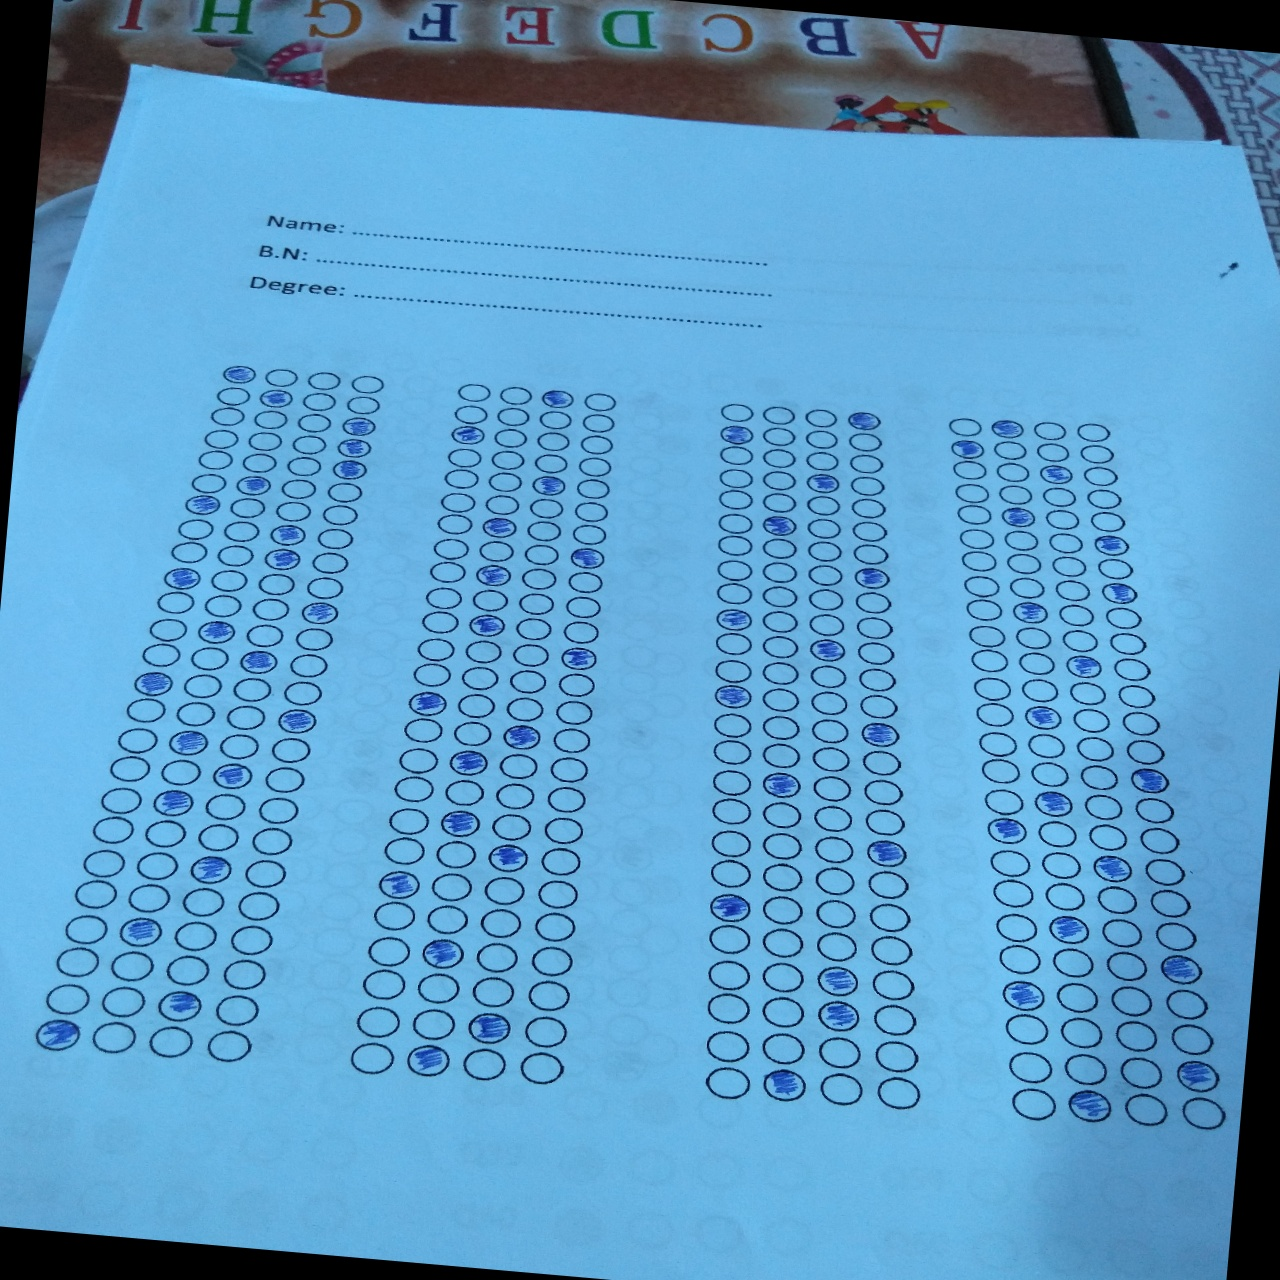not-c: (347, 1039, 396, 1078), (459, 1046, 509, 1085), (522, 1012, 571, 1051), (874, 1074, 924, 1114), (1179, 1094, 1228, 1133), (1164, 985, 1213, 1024), (816, 1033, 865, 1073), (91, 1019, 139, 1058), (365, 931, 413, 971), (758, 958, 806, 998), (758, 924, 806, 964), (869, 931, 917, 971), (147, 1023, 196, 1062), (518, 1050, 567, 1089), (524, 976, 573, 1015), (703, 1064, 753, 1103), (817, 1070, 866, 1109), (873, 1039, 922, 1077), (1122, 1091, 1171, 1130), (1062, 1051, 1111, 1090), (1006, 1049, 1055, 1088), (1002, 1009, 1051, 1048), (1057, 1013, 1107, 1051), (1169, 1021, 1218, 1060), (1109, 982, 1158, 1021), (1054, 979, 1103, 1017), (995, 940, 1044, 979), (361, 965, 408, 1005), (98, 982, 147, 1021), (527, 944, 576, 982), (1009, 1085, 1057, 1124), (1119, 1053, 1167, 1091), (1114, 1017, 1162, 1056), (869, 966, 917, 1005), (758, 1029, 806, 1068), (704, 1027, 753, 1065), (758, 993, 806, 1032), (704, 956, 753, 995), (353, 1005, 402, 1042), (871, 1002, 920, 1040), (703, 989, 753, 1027), (706, 921, 755, 959), (866, 899, 915, 937), (43, 981, 91, 1019), (813, 927, 862, 965), (123, 879, 171, 915), (410, 1006, 458, 1042), (812, 896, 860, 932), (706, 856, 754, 892), (758, 828, 806, 864), (707, 826, 756, 862), (236, 888, 282, 925), (55, 944, 102, 980), (205, 1028, 252, 1064), (241, 856, 290, 891), (80, 845, 128, 880), (72, 877, 120, 912), (178, 885, 226, 920), (172, 918, 220, 953), (163, 952, 211, 987), (993, 911, 1041, 946), (1049, 946, 1097, 981), (1135, 823, 1183, 858), (215, 992, 260, 1028), (493, 749, 540, 784), (134, 847, 181, 883), (63, 911, 110, 946), (222, 956, 268, 992), (474, 940, 520, 975), (1098, 915, 1145, 951), (1145, 886, 1192, 921), (758, 893, 806, 927), (811, 864, 859, 898), (865, 869, 913, 903), (537, 844, 583, 879), (471, 974, 517, 1009), (415, 971, 461, 1006), (1155, 920, 1200, 955), (1095, 881, 1141, 917), (433, 837, 479, 871), (256, 794, 302, 828), (229, 922, 275, 956), (107, 949, 154, 983), (760, 860, 806, 894), (989, 878, 1036, 912), (1043, 879, 1090, 913), (1103, 949, 1150, 983), (1037, 847, 1084, 881), (1142, 855, 1189, 888), (544, 783, 590, 817), (535, 878, 580, 912), (482, 873, 527, 907), (425, 903, 471, 937), (531, 908, 577, 942), (195, 821, 240, 855), (988, 845, 1034, 879), (248, 825, 295, 858), (1080, 790, 1126, 823), (492, 779, 537, 813), (542, 813, 586, 847), (372, 898, 416, 932), (478, 905, 523, 939), (488, 810, 533, 843), (547, 754, 593, 787), (549, 724, 594, 757), (91, 812, 137, 845), (863, 805, 908, 838), (709, 795, 755, 828), (261, 764, 308, 796), (1084, 821, 1131, 852), (443, 776, 488, 809), (429, 870, 474, 903), (813, 803, 858, 836), (760, 799, 804, 832), (98, 785, 144, 817), (1130, 794, 1176, 825), (392, 774, 436, 805), (224, 702, 268, 734), (182, 670, 226, 702), (108, 753, 152, 784), (204, 790, 248, 822), (1036, 817, 1081, 849), (709, 768, 754, 799), (710, 712, 755, 743), (454, 690, 499, 721), (216, 730, 261, 761), (142, 818, 188, 849), (810, 835, 856, 865), (709, 737, 755, 768), (712, 655, 757, 686), (451, 717, 495, 749), (383, 835, 427, 866), (268, 734, 312, 765), (123, 694, 166, 726), (401, 715, 445, 745), (173, 699, 218, 729), (810, 774, 855, 804), (981, 787, 1026, 817), (114, 726, 159, 755), (281, 678, 324, 709), (559, 618, 602, 648), (396, 744, 440, 775), (857, 692, 900, 722), (1073, 734, 1116, 764), (971, 673, 1014, 703), (504, 695, 549, 724), (387, 806, 431, 836), (966, 622, 1010, 652), (760, 741, 802, 771), (856, 665, 898, 695), (981, 756, 1023, 787), (964, 595, 1006, 626), (413, 634, 456, 663), (285, 651, 328, 680), (158, 757, 202, 787), (712, 628, 755, 658), (760, 659, 803, 688), (810, 744, 853, 774), (810, 716, 853, 745), (805, 662, 849, 692), (862, 778, 905, 808), (973, 701, 1016, 730), (154, 588, 198, 617), (292, 626, 336, 654), (1110, 654, 1151, 685), (411, 659, 454, 688), (231, 675, 273, 704), (757, 633, 799, 662), (758, 686, 801, 715), (760, 713, 802, 742), (808, 688, 850, 717), (860, 748, 903, 777), (855, 638, 897, 667), (1028, 760, 1070, 789), (1078, 763, 1121, 792), (969, 645, 1012, 674), (1070, 706, 1112, 735), (1103, 604, 1145, 633), (1060, 626, 1102, 655), (561, 593, 605, 621), (200, 592, 244, 620), (512, 615, 556, 644), (509, 640, 552, 668), (462, 636, 505, 665), (461, 665, 504, 693), (505, 668, 549, 696), (552, 697, 595, 726), (244, 622, 287, 651), (139, 641, 183, 669), (188, 644, 231, 672), (1123, 737, 1166, 765), (1024, 731, 1065, 761), (1116, 682, 1157, 712), (248, 595, 291, 624), (554, 670, 597, 699), (147, 615, 189, 644), (757, 608, 799, 636), (976, 730, 1019, 758), (1020, 676, 1062, 704), (518, 565, 561, 592), (425, 558, 469, 585), (515, 591, 558, 618), (207, 567, 251, 594), (302, 576, 346, 602), (1121, 709, 1160, 738), (1107, 629, 1148, 658), (1056, 601, 1097, 629), (256, 571, 298, 598), (418, 610, 461, 636), (853, 615, 896, 642), (714, 556, 754, 584), (805, 561, 845, 590), (422, 584, 465, 610), (467, 587, 510, 613), (168, 540, 211, 566), (175, 516, 216, 543), (314, 526, 355, 553), (441, 465, 482, 492), (568, 520, 610, 547), (806, 611, 847, 638), (1051, 576, 1092, 602), (1094, 556, 1135, 583), (219, 518, 261, 544), (442, 445, 484, 471), (452, 377, 495, 403), (215, 543, 257, 568), (1068, 680, 1110, 706), (853, 588, 892, 617), (1007, 574, 1047, 601), (962, 572, 1002, 599), (806, 587, 846, 614), (760, 583, 799, 610), (715, 581, 755, 608), (496, 383, 537, 409), (490, 425, 531, 451), (475, 538, 516, 564), (520, 542, 561, 567), (565, 570, 606, 595), (309, 550, 350, 576), (1013, 625, 1054, 651), (1017, 651, 1058, 676), (992, 461, 1033, 486), (1039, 484, 1080, 510), (1029, 418, 1070, 444), (844, 451, 885, 477), (799, 406, 840, 431), (760, 535, 798, 561), (431, 537, 474, 561), (1085, 486, 1125, 512), (434, 513, 475, 538), (437, 490, 478, 515), (449, 402, 490, 427), (492, 403, 533, 428), (486, 447, 527, 471), (535, 407, 576, 431), (576, 433, 617, 457), (849, 542, 890, 566), (804, 517, 845, 542), (847, 519, 888, 544), (958, 549, 999, 573), (1050, 554, 1091, 579), (1046, 530, 1087, 554), (1043, 508, 1084, 532), (956, 526, 998, 551), (949, 457, 990, 482), (995, 482, 1036, 506), (1087, 510, 1128, 535), (1034, 441, 1075, 465), (1073, 421, 1114, 445), (844, 430, 885, 455), (846, 474, 887, 498), (847, 496, 888, 520), (801, 449, 842, 474), (802, 428, 843, 452), (717, 401, 758, 425), (251, 407, 290, 433), (290, 433, 329, 457), (200, 425, 240, 450), (320, 503, 360, 527), (229, 496, 268, 520), (579, 411, 619, 436), (574, 454, 614, 478), (714, 535, 754, 559), (716, 510, 756, 535), (1001, 527, 1041, 552), (955, 503, 995, 527), (760, 490, 799, 515), (715, 486, 755, 511), (758, 469, 798, 493), (758, 445, 798, 470), (717, 442, 757, 467), (485, 470, 526, 493), (524, 519, 565, 543), (526, 497, 567, 520), (530, 451, 571, 475), (532, 430, 573, 454), (570, 501, 611, 524), (1003, 552, 1044, 576), (952, 481, 993, 504), (1080, 465, 1121, 489), (1077, 443, 1118, 467), (990, 438, 1032, 462), (945, 416, 986, 440), (760, 425, 801, 449), (758, 403, 799, 427), (285, 454, 324, 478), (325, 481, 363, 505), (207, 406, 247, 429), (195, 449, 234, 472), (189, 471, 229, 495), (482, 493, 522, 517), (574, 477, 614, 501), (803, 493, 843, 517), (714, 465, 754, 489), (295, 410, 334, 434), (278, 477, 316, 501), (240, 451, 279, 475), (246, 429, 285, 452), (580, 390, 619, 414), (760, 559, 796, 584), (348, 373, 386, 396), (215, 384, 252, 408), (274, 499, 312, 523), (808, 538, 845, 561), (345, 395, 382, 417), (300, 392, 338, 414), (263, 366, 299, 388), (305, 370, 342, 392)
taken-c: (30, 1015, 83, 1055), (463, 1008, 515, 1048), (1156, 951, 1207, 990), (373, 866, 425, 905), (402, 1040, 452, 1080), (154, 986, 204, 1024), (417, 933, 467, 972), (998, 978, 1048, 1015), (1042, 911, 1092, 948), (760, 1065, 808, 1104), (1065, 1087, 1114, 1124), (403, 686, 452, 722), (1171, 1058, 1220, 1095), (438, 806, 486, 843), (813, 962, 862, 999), (115, 914, 164, 949), (1088, 851, 1137, 886), (815, 998, 862, 1034), (483, 840, 531, 876), (445, 745, 493, 781), (498, 719, 545, 754), (863, 836, 911, 870), (983, 813, 1032, 847), (707, 891, 754, 925), (150, 787, 196, 821), (209, 760, 256, 792), (760, 769, 806, 802), (1030, 789, 1077, 822), (1128, 765, 1175, 798), (188, 853, 233, 885), (1022, 702, 1068, 734), (564, 544, 610, 574), (166, 727, 210, 758), (236, 646, 280, 676), (558, 644, 602, 674), (464, 610, 509, 640), (195, 617, 238, 647), (471, 561, 516, 591), (1009, 598, 1051, 628), (275, 707, 319, 736), (859, 720, 903, 749), (1063, 653, 1107, 682), (1097, 580, 1141, 610), (1090, 532, 1133, 561), (998, 503, 1041, 532), (477, 515, 522, 543), (132, 668, 175, 697), (712, 682, 754, 712), (712, 606, 755, 634), (267, 520, 309, 549), (445, 423, 488, 451), (805, 635, 847, 663), (299, 599, 340, 627), (529, 474, 571, 501), (535, 386, 577, 413), (849, 565, 892, 591), (263, 546, 304, 572), (161, 565, 202, 591), (845, 408, 886, 434), (1035, 462, 1076, 486), (987, 417, 1028, 442), (331, 456, 369, 482), (233, 474, 273, 498), (183, 492, 223, 517), (947, 436, 987, 461), (719, 423, 756, 448), (805, 471, 843, 496), (219, 362, 258, 386), (258, 387, 297, 410), (339, 415, 377, 438), (334, 436, 372, 459), (758, 513, 796, 535)
